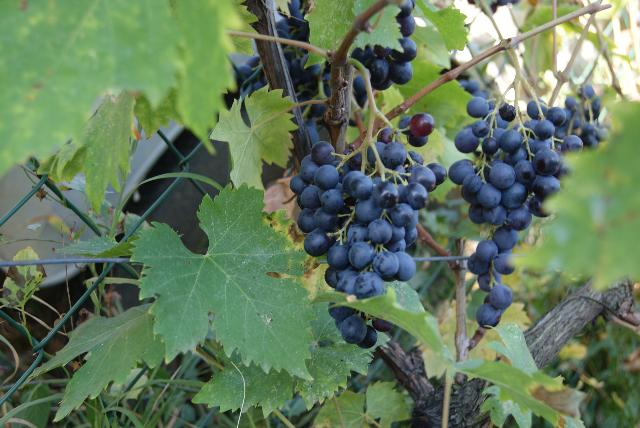grapes: (448, 98, 570, 329), (290, 141, 446, 300)
